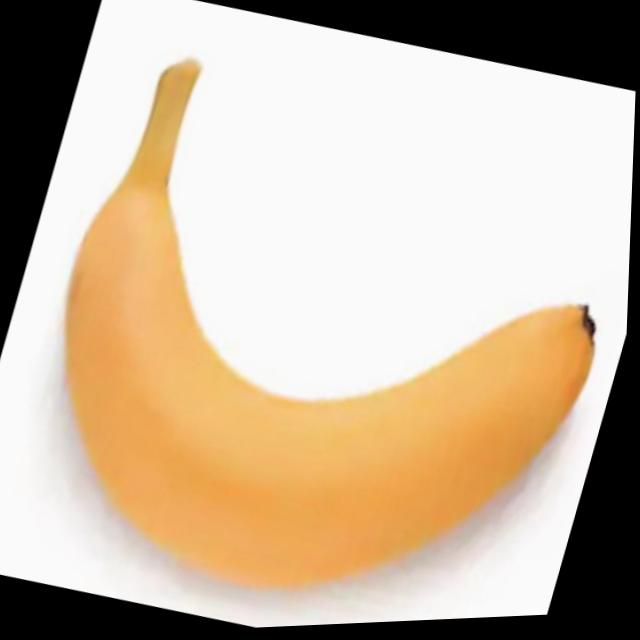Banana: (0, 28, 639, 640)
